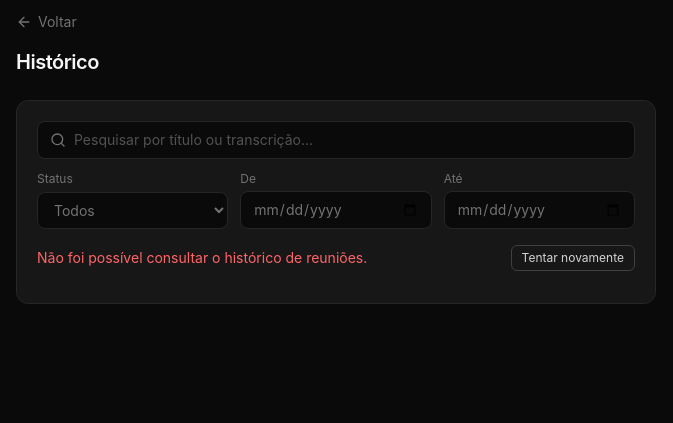
History › mostra o erro e Tentar novamente refaz a consulta
Expected: the message shows "Não foi possível consultar o histórico de reuniões.", [37,249,367,266]
Click the button "Tentar novamente": (573, 258) [511,245,635,271]
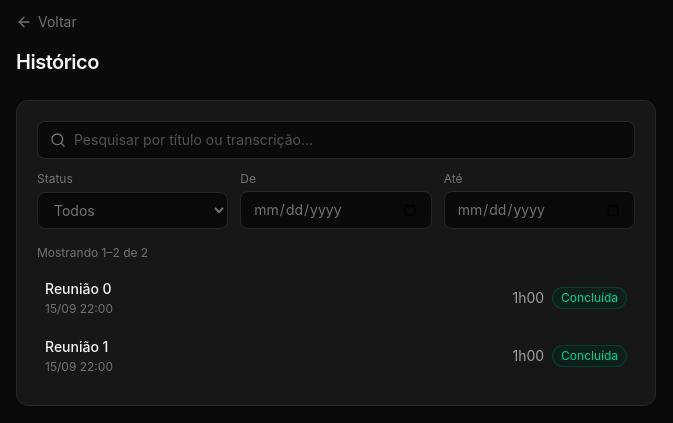
Expected: the text "Reunião 0" is shown, [45,279,113,299]
Expected: the message "Não foi possível consultar o histórico de reuniões. Tentar novamente" is gone
